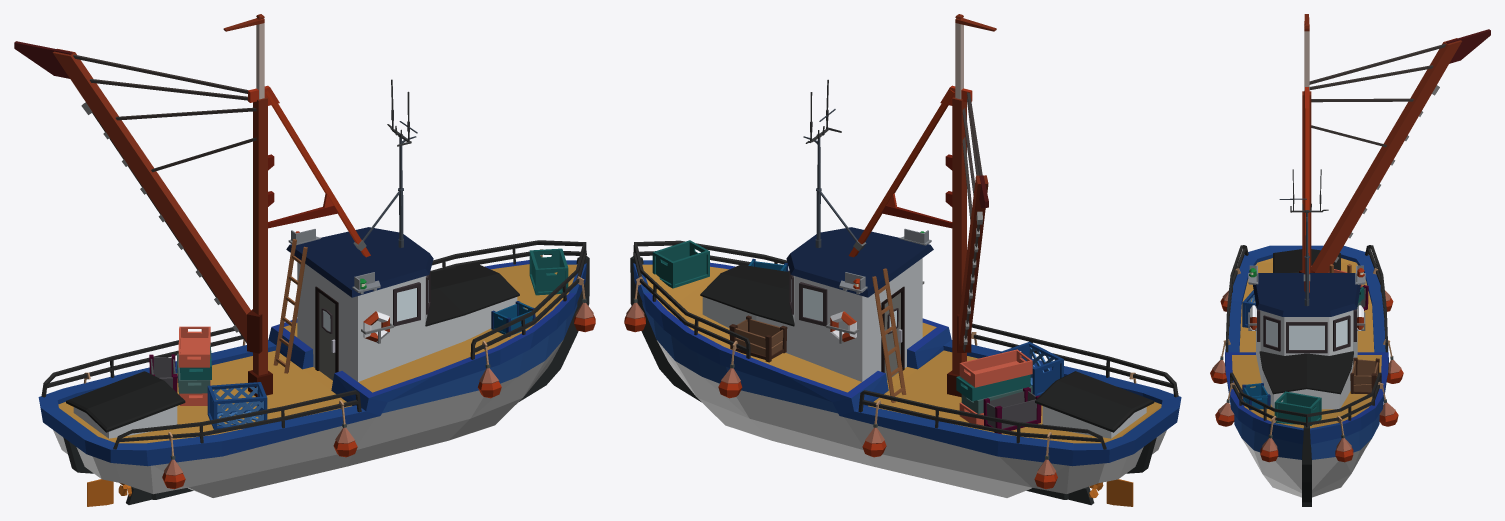
File: Fishing Boat Tuna Crane Left.fbx
3 views of the same model, side by side, from view 1: azimuth 30°, elevation 25°; view 2: azimuth 150°, elevation 25°; view 3: azimuth 270°, elevation 25° (orthographic). The views are drawn at different scales.
Visible parts, largest first — view 1: Fishing Boat Tuna, Kraan Left; view 2: Fishing Boat Tuna, Kraan Left; view 3: Fishing Boat Tuna, Kraan Left.
Boxes of the visible parts, left/top/right/bottom form: Fishing Boat Tuna: left=38, top=14, right=595, bottom=506; Kraan Left: left=14, top=41, right=262, bottom=353; Fishing Boat Tuna: left=624, top=14, right=1181, bottom=506; Kraan Left: left=957, top=92, right=988, bottom=352; Fishing Boat Tuna: left=1210, top=14, right=1403, bottom=506; Kraan Left: left=1299, top=29, right=1490, bottom=272.
Bounding box in the file's own units: 1002 × 833 × 553.
